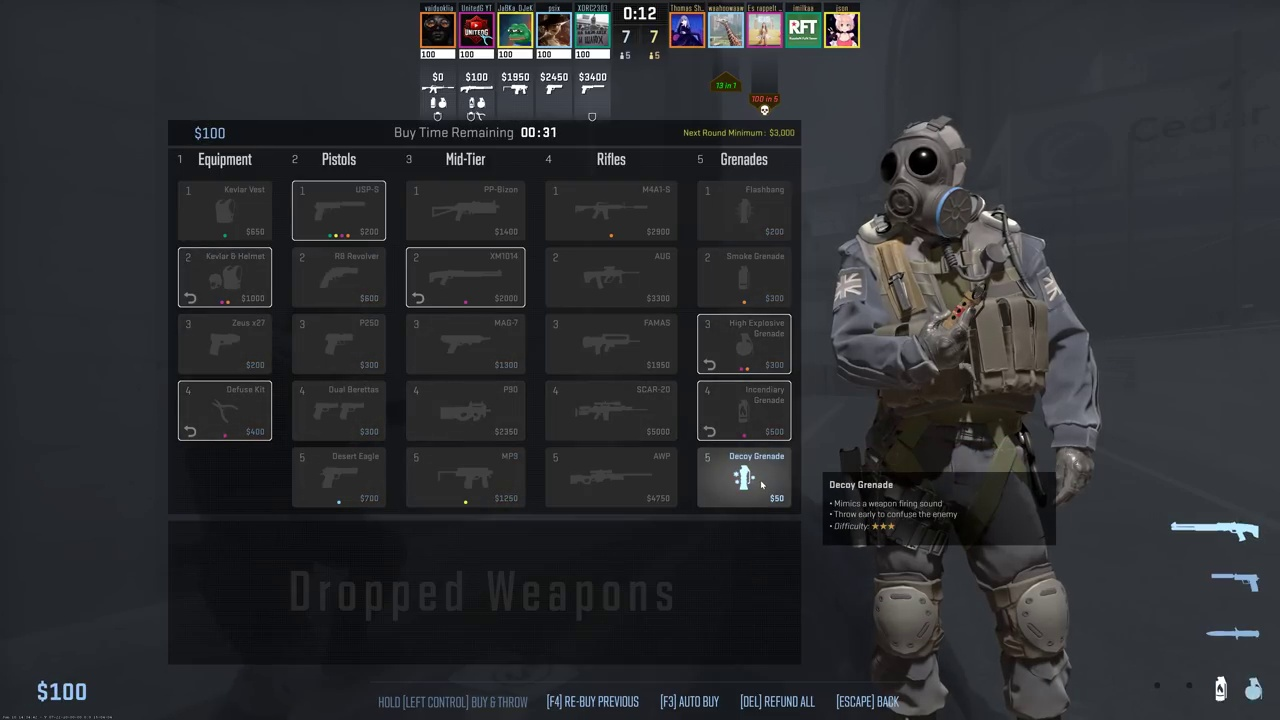CT: (856, 121, 1075, 718)
